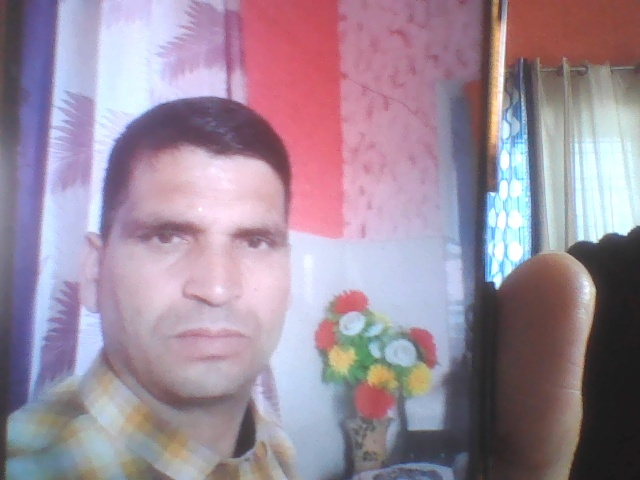fake: (75, 69, 321, 417)
